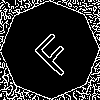F: (25, 25, 80, 79)
